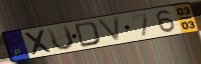6: (155, 9, 177, 34)
7: (129, 11, 150, 38)
D: (73, 20, 102, 49)
U: (45, 23, 76, 51)
V: (95, 14, 123, 44)
X: (22, 28, 55, 57)
